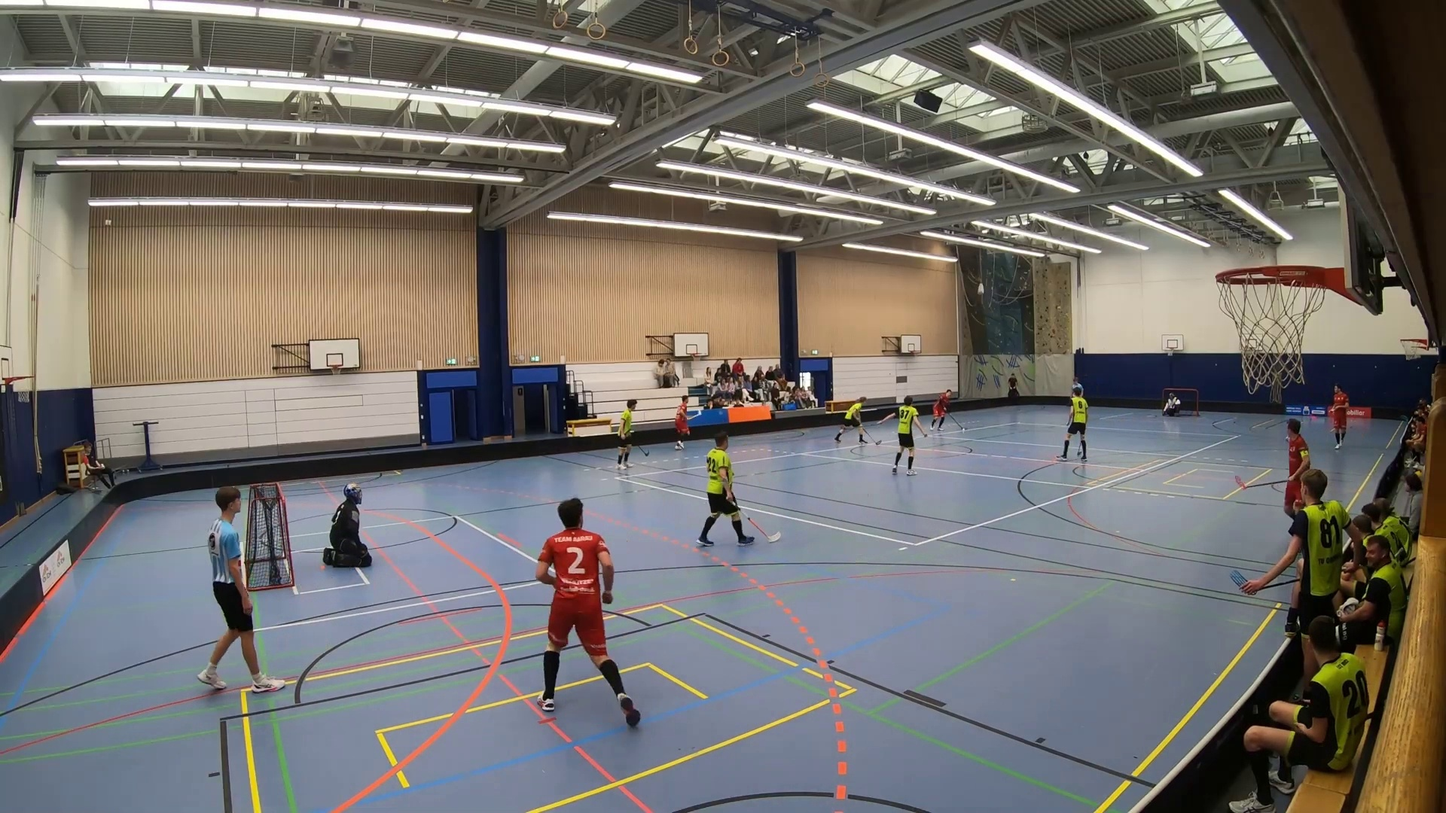Schiri: (144, 477, 283, 700), (1069, 373, 1083, 396)
ball: (961, 424, 967, 436)
goalkeeper: (297, 464, 382, 586), (1161, 388, 1185, 423)
player: (514, 485, 660, 743), (689, 432, 798, 557), (1231, 414, 1310, 518), (1041, 383, 1105, 470), (827, 382, 886, 467), (875, 388, 929, 479), (594, 384, 648, 471), (661, 385, 699, 467), (928, 381, 974, 444), (1315, 380, 1355, 452)
